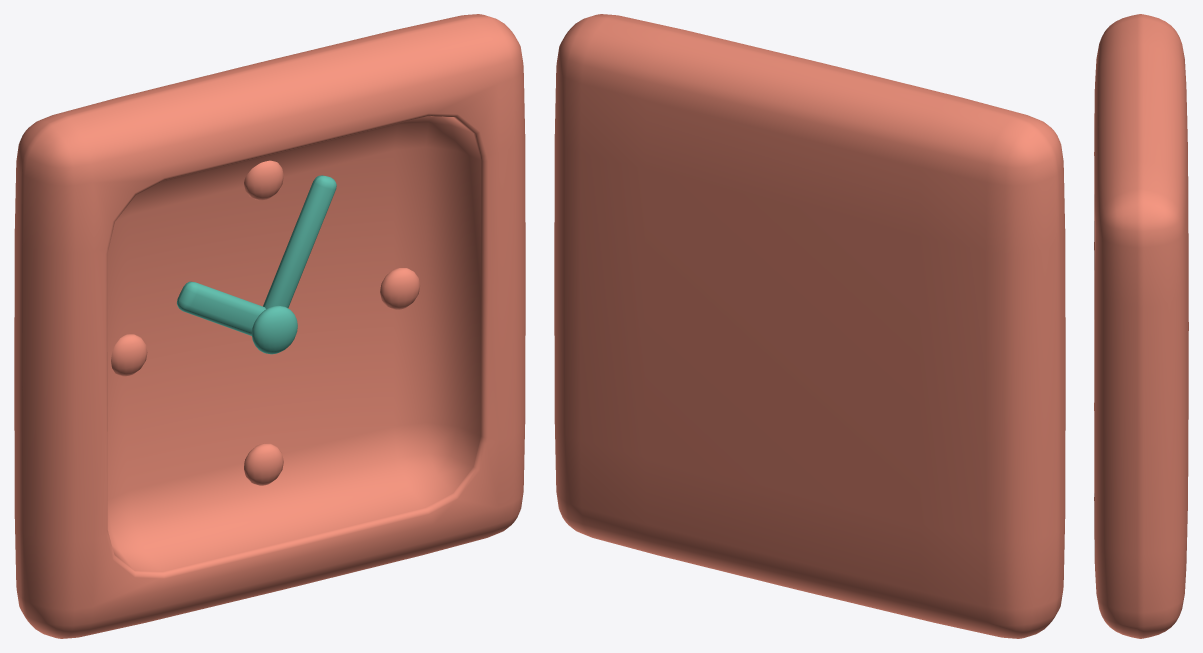
Rendered from clock_b.glb.
3 views of the same model, side by side, from view 1: azimuth 30°, elevation 25°; view 2: azimuth 150°, elevation 25°; view 3: azimuth 270°, elevation 25° (orthographic). The views are drawn at different scales.
Visible parts, largest first — view 1: body; view 2: body; view 3: body.
Part boxes in pixels (left/top/right/bottom): body: left=14, top=14, right=525, bottom=638; body: left=554, top=14, right=1065, bottom=638; body: left=1094, top=14, right=1188, bottom=638.
Bounding box in the file's own units: 0.36 × 0.36 × 0.0688.
